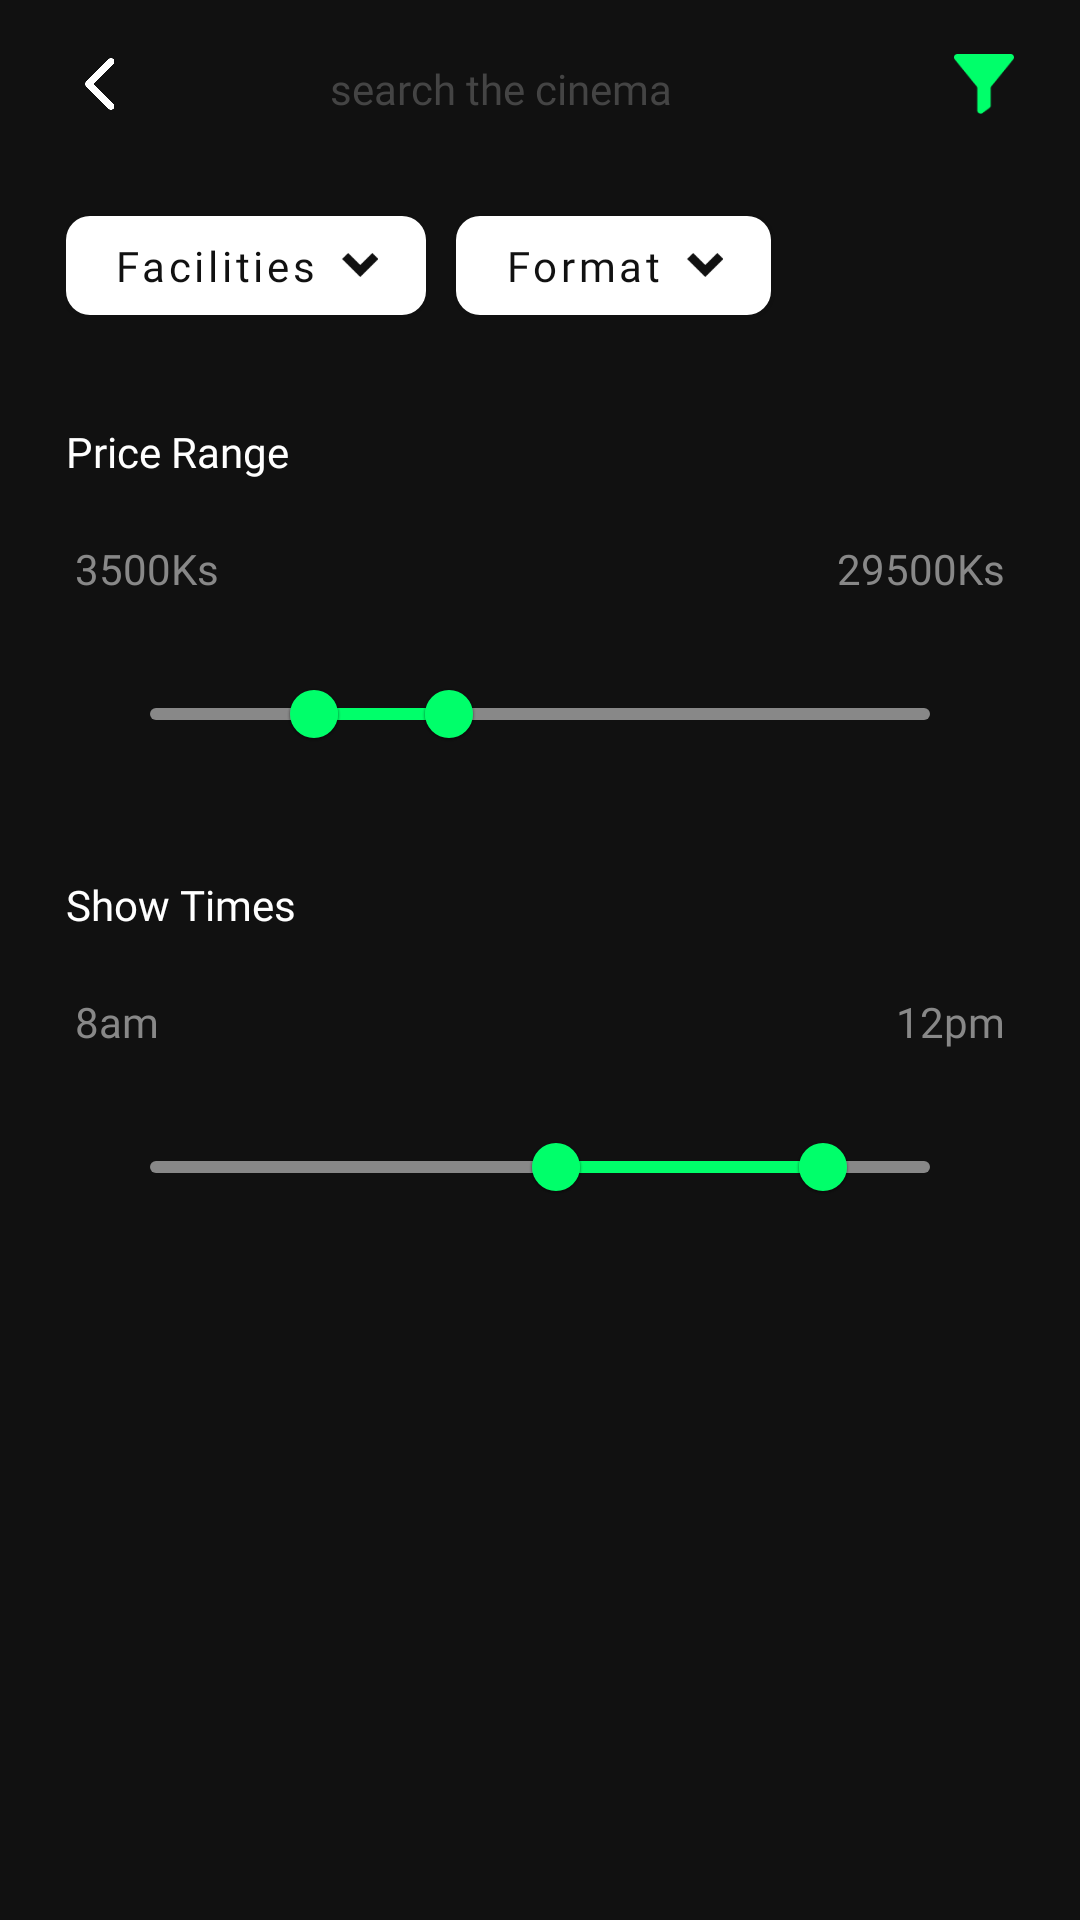

Named icons in this screenshot (1080 x 1920) and their centers, point (x, y):
back arrow: point (99, 84)
filter: point (984, 84)
